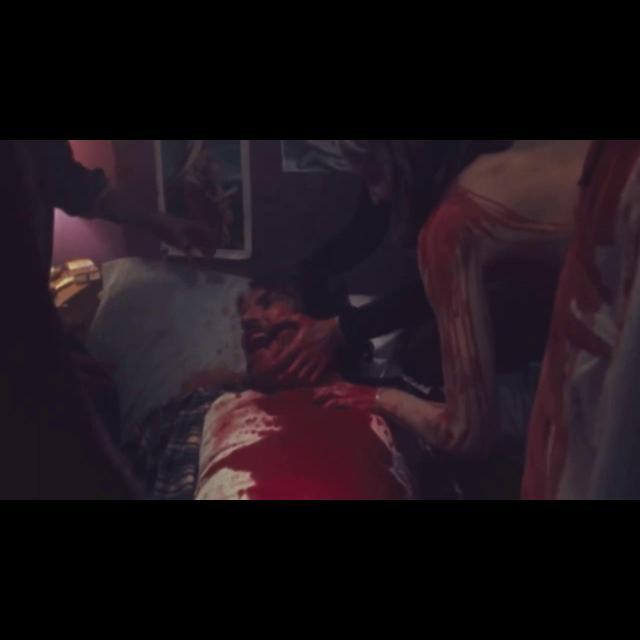blood: (211, 145, 585, 499), (524, 140, 640, 498)
